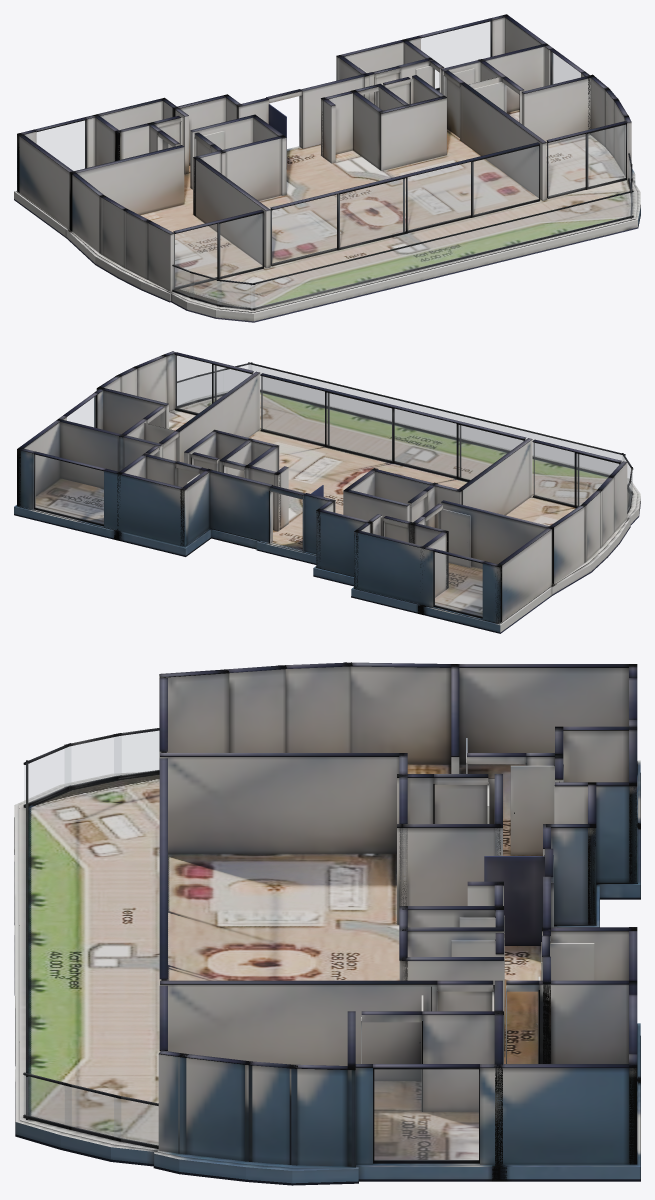
3 renders of one model, top to bottom at view 1: azimuth 30°, elevation 25°; view 2: azimuth 150°, elevation 25°; view 3: azimuth 270°, elevation 25°, orthographic. The views are drawn at different scales.
Visible parts, largest first — view 1: plan, glass1_m, railg3_m, glass0_m, glass2_m, glass4_m, glass3_m, railg4_m, railg5_m, glass5_m, railg6_m; view 2: plan, glass1_m, railg3_m, glass4_m, glass0_m, glass3_m, glass2_m, glass5_m, railg1_m, railg0_m; view 3: plan, glass5_m, railg5_m, railg1_m, railg2_m, railg6_m, railg0_m, railg4_m.
Boxes of the visible parts, <box> form: plan: <box>14,14,640,322</box>; glass1_m: <box>271,146,538,264</box>; railg3_m: <box>251,192,632,308</box>; glass0_m: <box>174,214,262,287</box>; glass2_m: <box>548,125,625,196</box>; glass4_m: <box>421,21,490,88</box>; glass3_m: <box>37,121,85,170</box>; railg4_m: <box>217,281,254,308</box>; railg5_m: <box>190,273,221,304</box>; glass5_m: <box>552,52,580,83</box>; railg6_m: <box>173,266,193,297</box>; plan: <box>14,351,640,633</box>; glass1_m: <box>261,376,522,479</box>; railg3_m: <box>249,364,624,474</box>; glass4_m: <box>35,455,103,524</box>; glass0_m: <box>533,443,618,506</box>; glass3_m: <box>434,552,482,616</box>; glass2_m: <box>175,355,251,413</box>; glass5_m: <box>67,396,95,427</box>; railg1_m: <box>199,371,223,399</box>; railg0_m: <box>177,378,195,405</box>; plan: <box>14,662,640,1185</box>; glass5_m: <box>374,1069,478,1160</box>; railg5_m: <box>65,736,121,786</box>; railg1_m: <box>65,1086,120,1138</box>; railg2_m: <box>24,1075,71,1126</box>; railg6_m: <box>114,731,159,775</box>; railg0_m: <box>114,1098,158,1145</box>; railg4_m: <box>24,747,70,804</box>.
Size of the model in its own units: 20.75 by 2.62 by 13.24.
2 materials, 1 textured.
